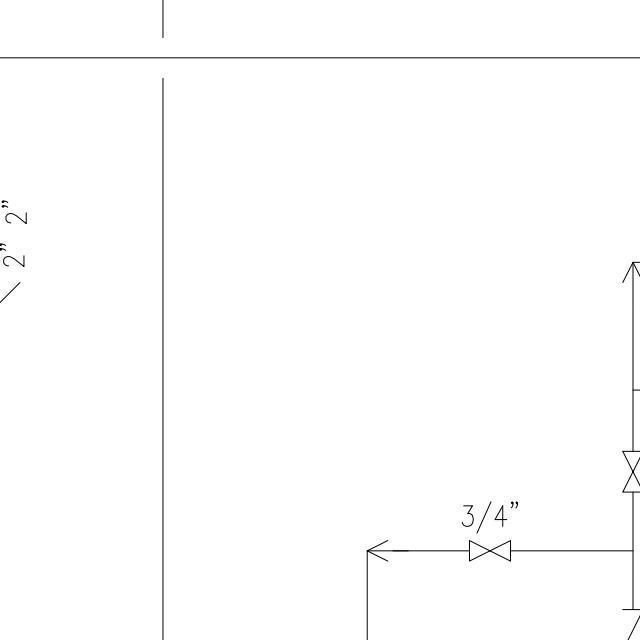GV: (465, 535, 514, 566)
